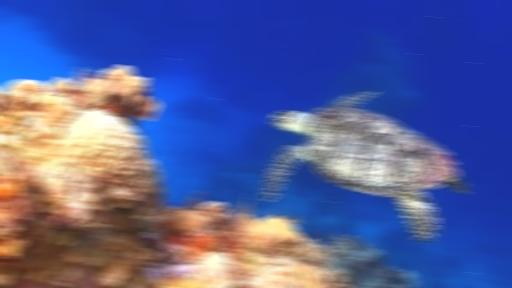Fish: (262, 92, 468, 241)
